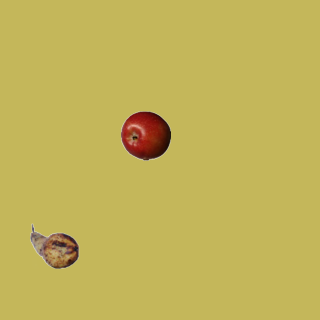Apple Braeburn: (120, 110, 170, 160)
Pear Abate: (29, 221, 79, 271)
